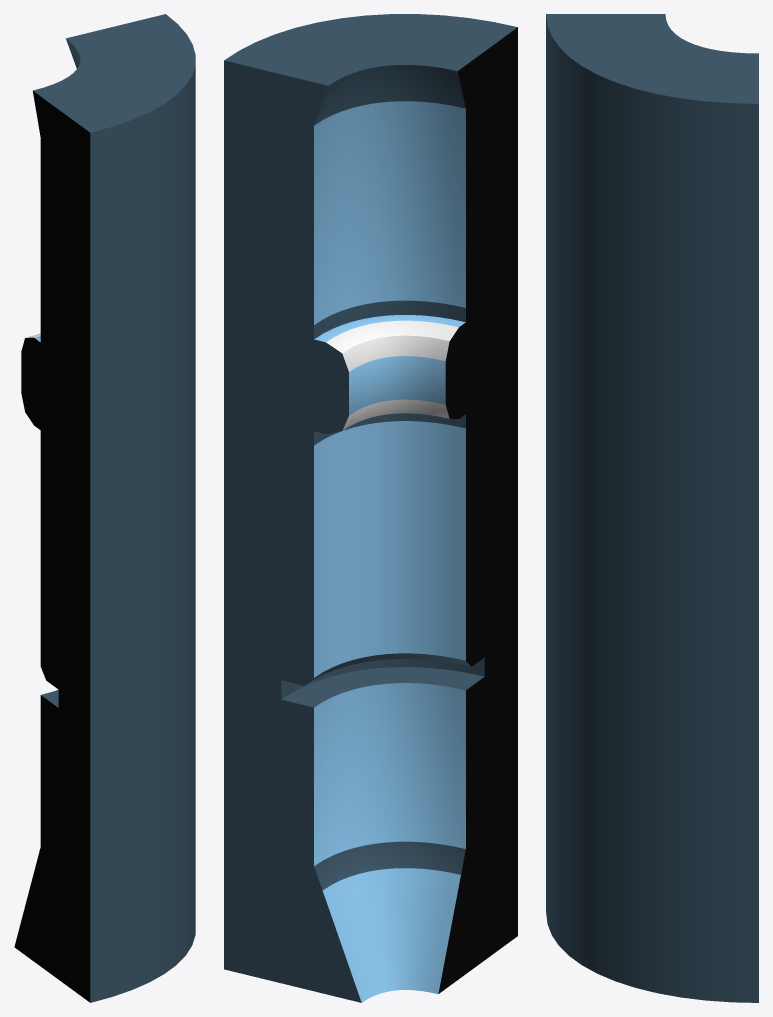
The model's file is CornerIn.fbx.
3 views of the same model, side by side, from view 1: azimuth 30°, elevation 25°; view 2: azimuth 150°, elevation 25°; view 3: azimuth 270°, elevation 25° (orthographic). The views are drawn at different scales.
Parts seen in each view (by area): view 1: CornerIn; view 2: CornerIn; view 3: CornerIn.
Part boxes in pixels (x1,y1,x2,y2): CornerIn: [14, 14, 195, 1002]; CornerIn: [224, 14, 517, 1002]; CornerIn: [546, 14, 758, 1002].
Bounding box in the file's own units: 1.32 × 6.15 × 1.32.
